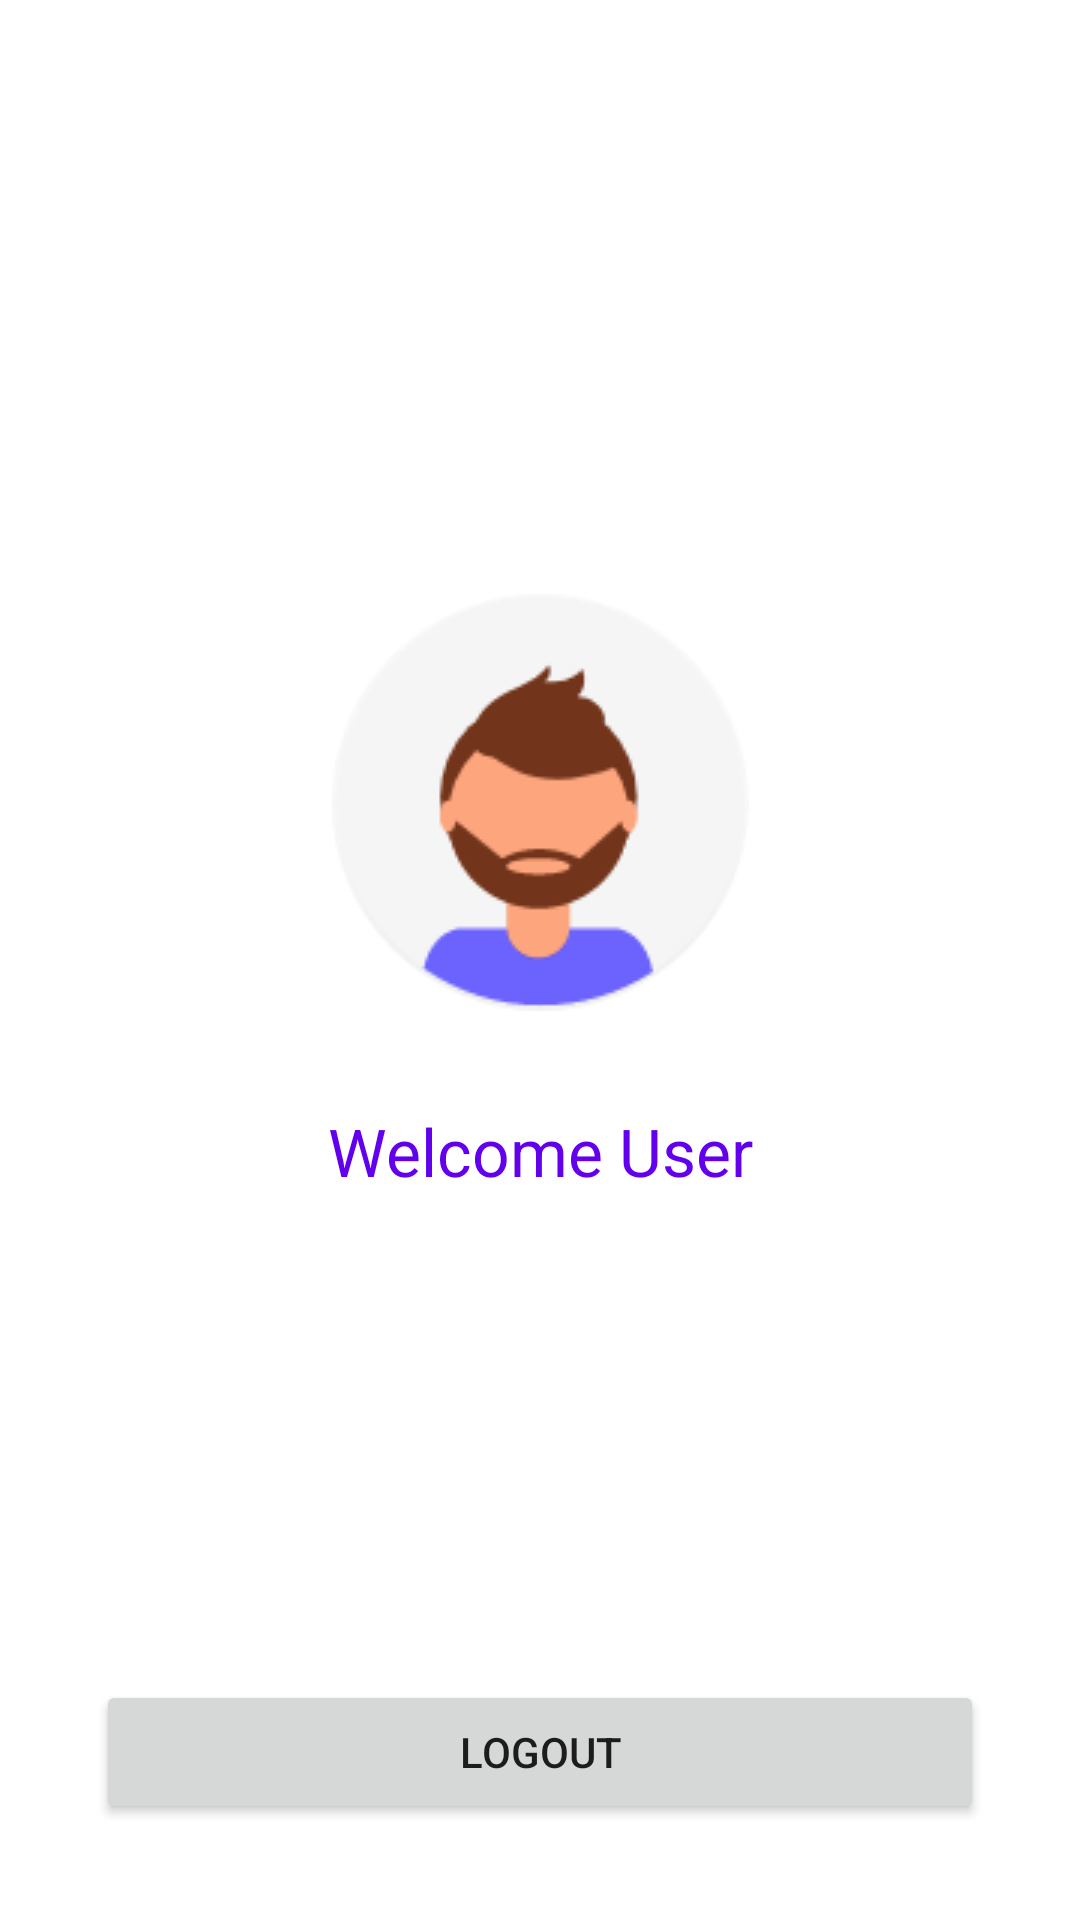

Icons on this 1080 x 1920 Android screen, each with its box as {"left": x1, "top": y1, "right": x2, "bottom": y2}:
profile: {"left": 421, "top": 665, "right": 654, "bottom": 1006}
